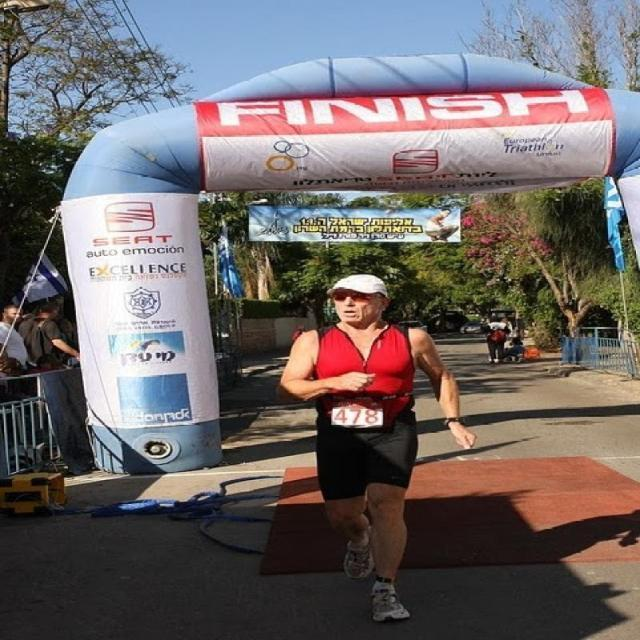dorsal: (323, 398, 388, 428)
